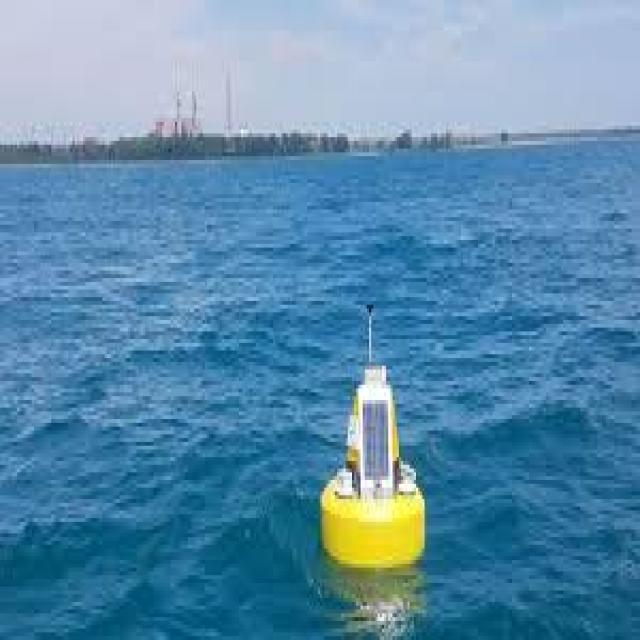marque: (313, 294, 437, 606)
